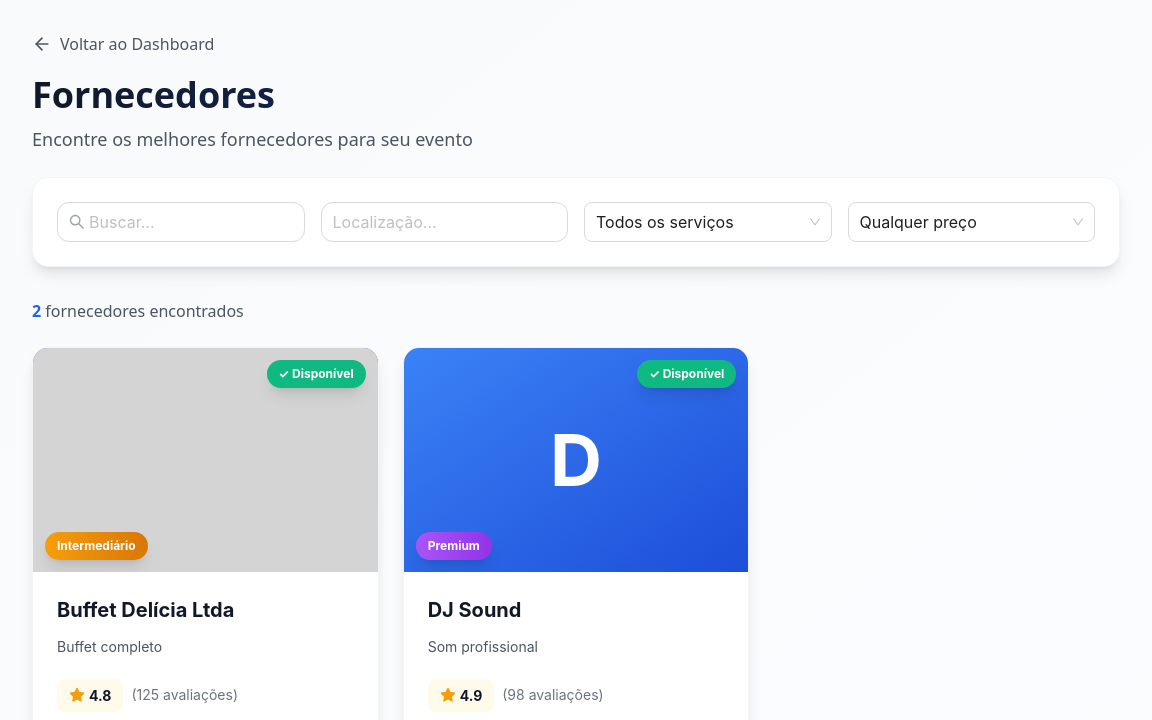
Scenario: Suppliers › should show empty state when no suppliers match filters
Expected: the heading "Buffet Delícia Ltda" is shown, x1=57 y1=598 x2=234 y2=622
Type "nonexistent" into the field with placeholder "Buscar..." at x=191, y=222, box x1=89 y1=210 x2=292 y2=234
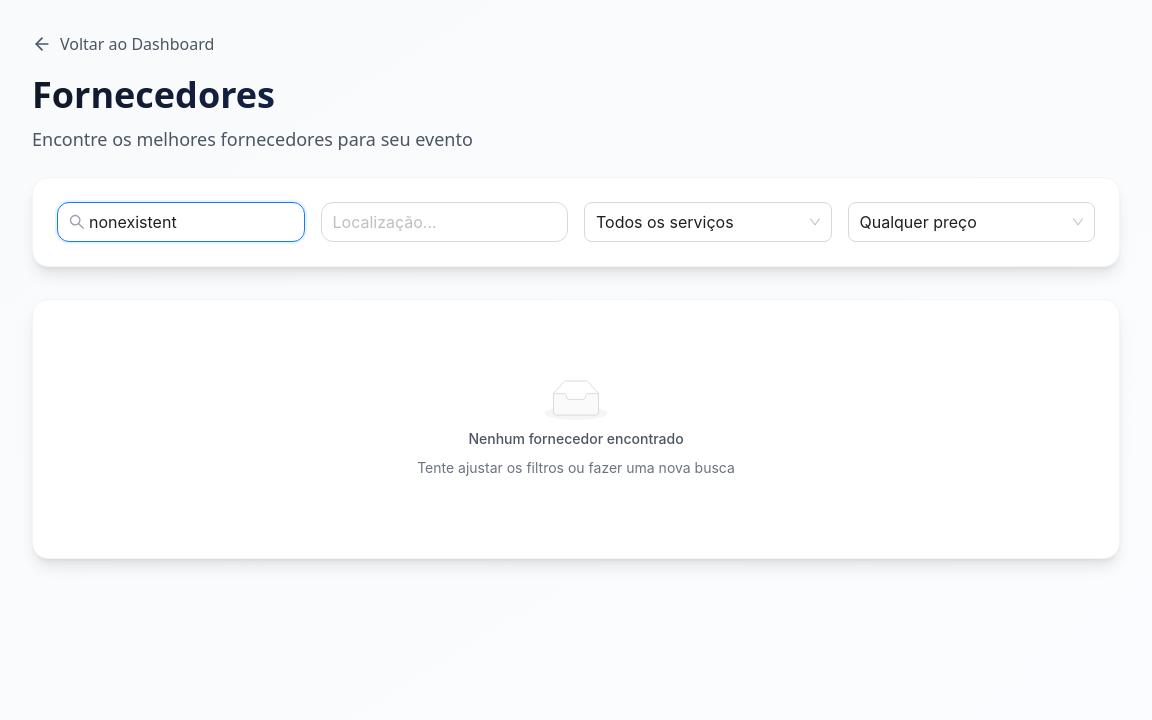
Result: the text "Nenhum fornecedor encontrado" is shown at x1=468 y1=430 x2=684 y2=447
